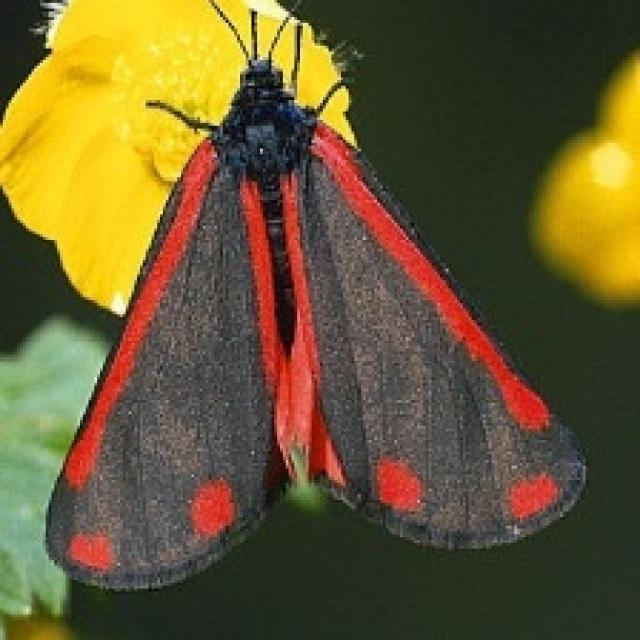butterfly: (0, 0, 588, 591)
